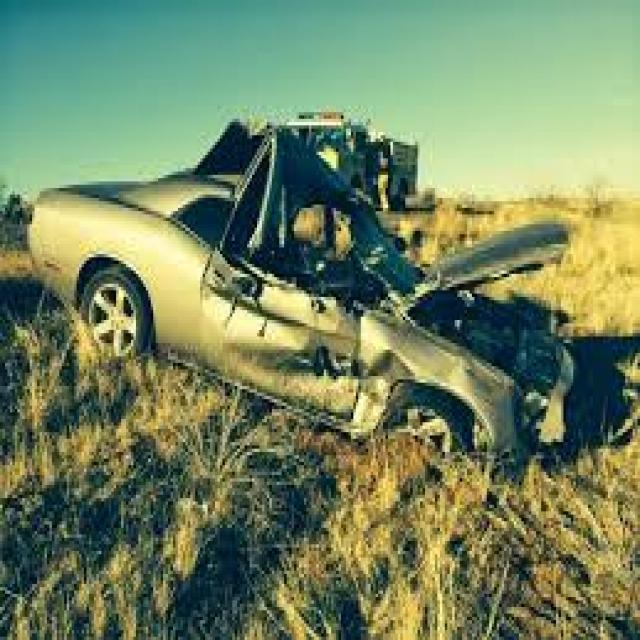severe: (205, 85, 563, 396)
